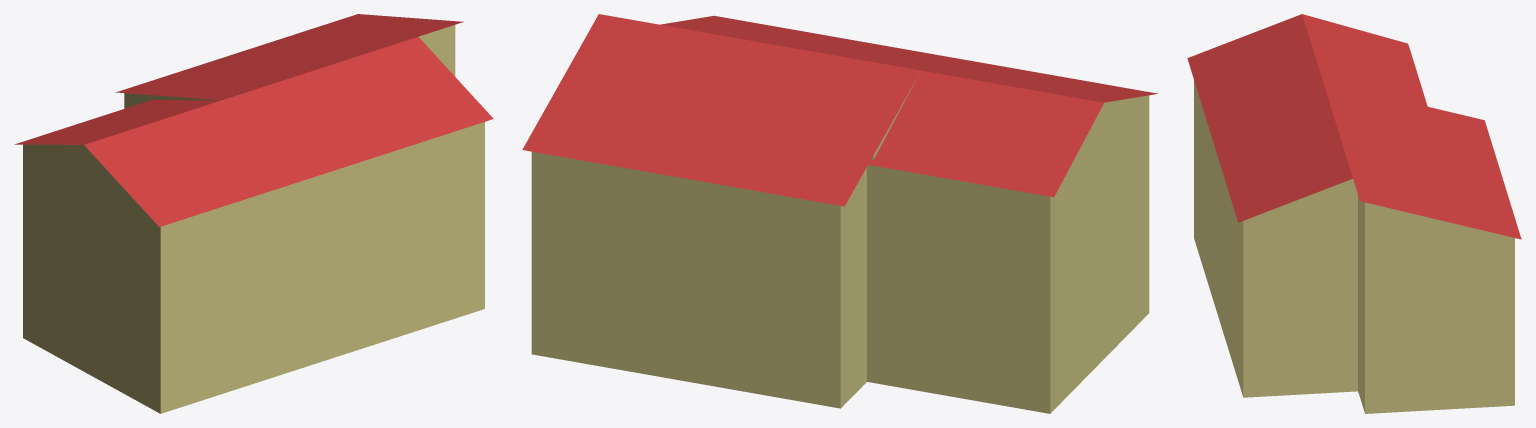
3 renders of one model, left to right at view 1: azimuth 30°, elevation 25°; view 2: azimuth 150°, elevation 25°; view 3: azimuth 270°, elevation 25°, orthographic. The views are drawn at different scales.
Size of the model in its own units: 19.35 by 14.16 by 10.07.
